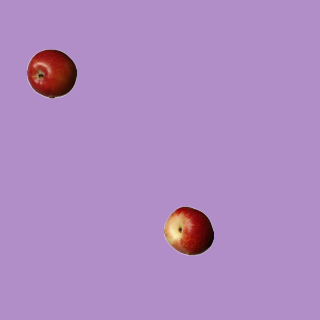Apple Braeburn: (26, 48, 76, 98)
Nectarine: (163, 205, 213, 255)
